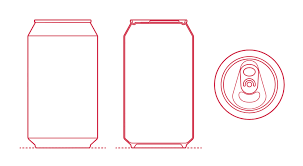can: (23, 14, 109, 152), (119, 15, 204, 153), (214, 47, 289, 119)
